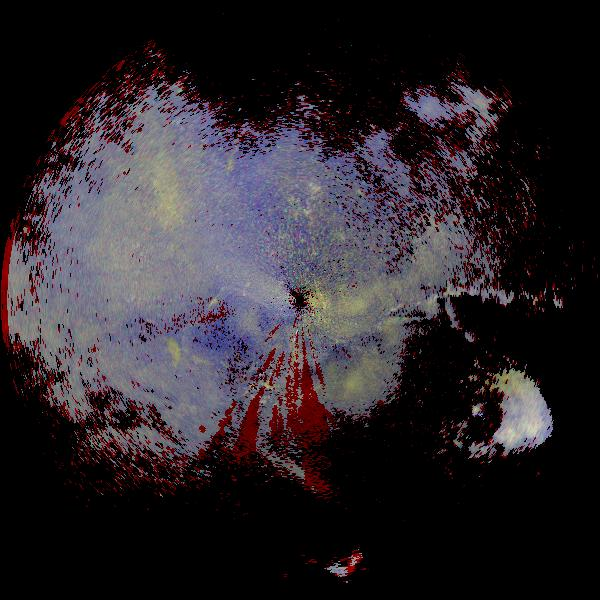roost: (143, 338, 185, 380)
